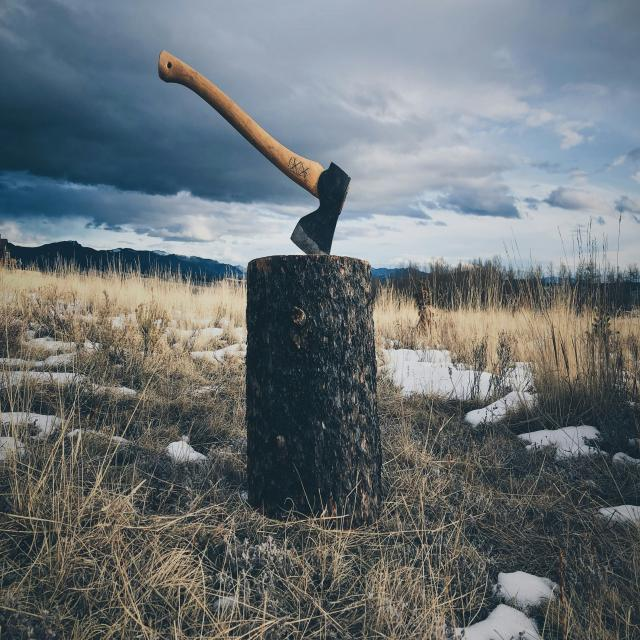Axe: (159, 51, 348, 254)
